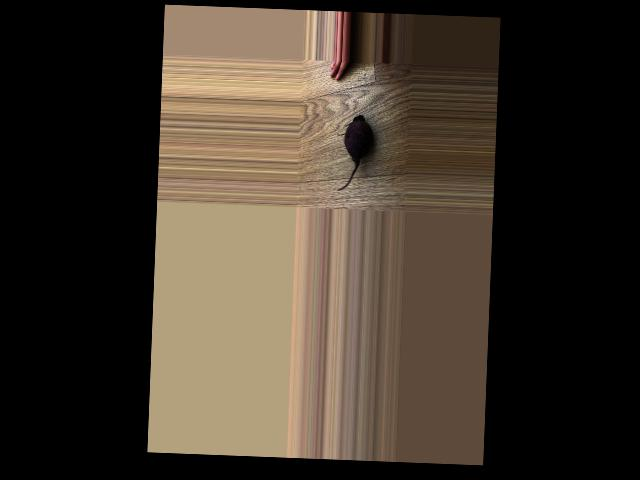beet: (335, 115, 373, 192)
